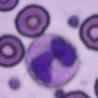N: (25, 34, 81, 88)
